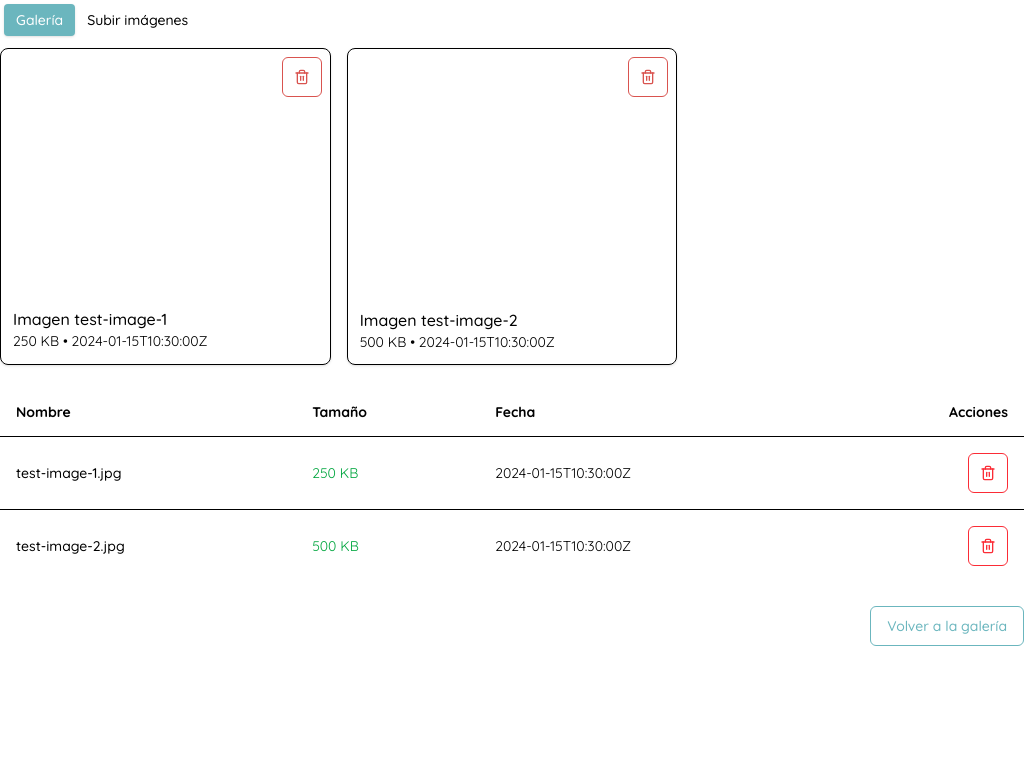
Test: ImagenUpload › Eliminación de imágenes › debe mostrar diálogo de confirmación al eliminar
Click the 1st button named "eliminar imagen". click: point(302, 77)
box: [282,57,322,97]
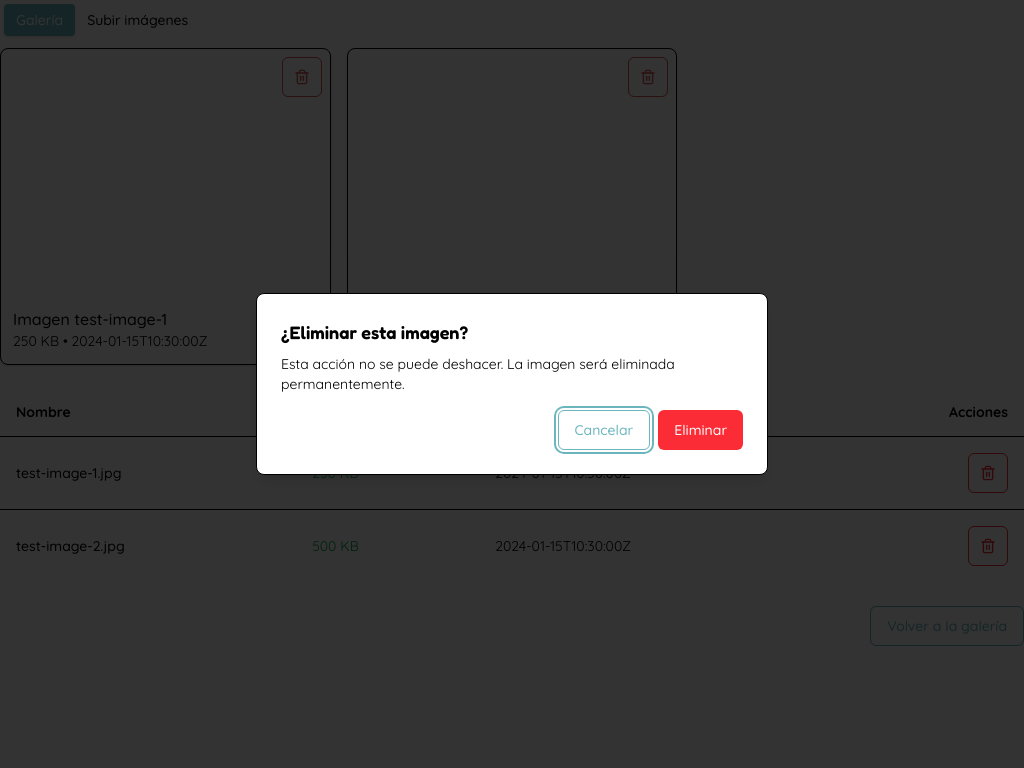
Now the heading "¿Eliminar esta imagen?" is shown, box [281,321,468,343]
Now the dialog labelled "¿Eliminar esta imagen?" shows "Esta acción no se puede deshacer", box [281,355,675,393]
